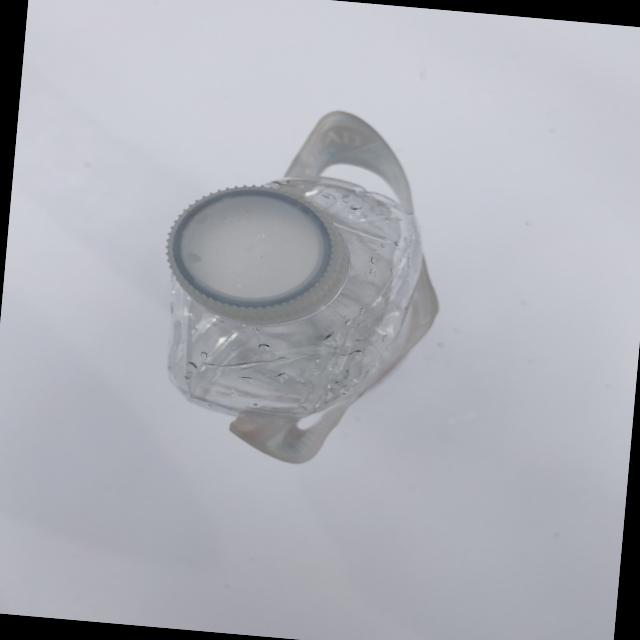Plastic: (85, 81, 499, 503)
